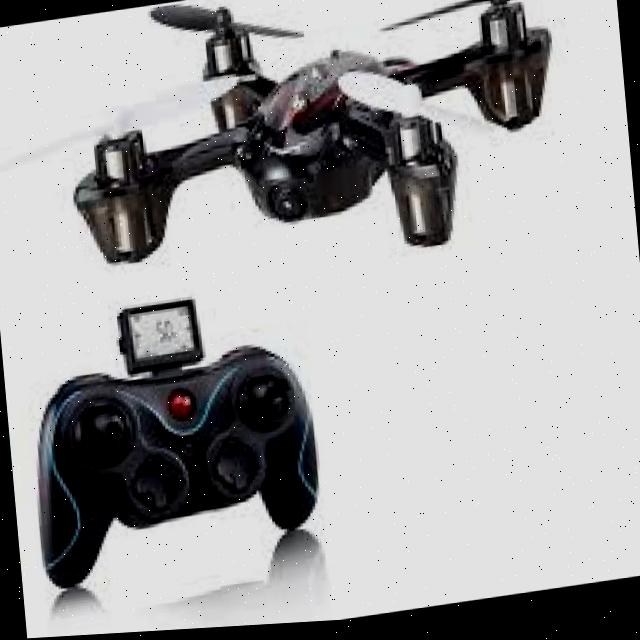drone: (19, 0, 610, 326)
